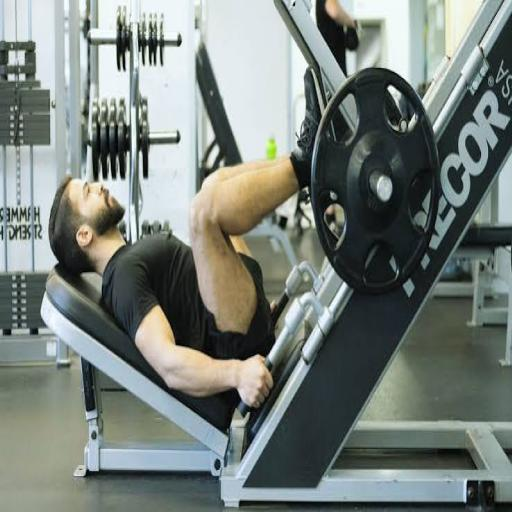Leg Press: (78, 14, 510, 451)
